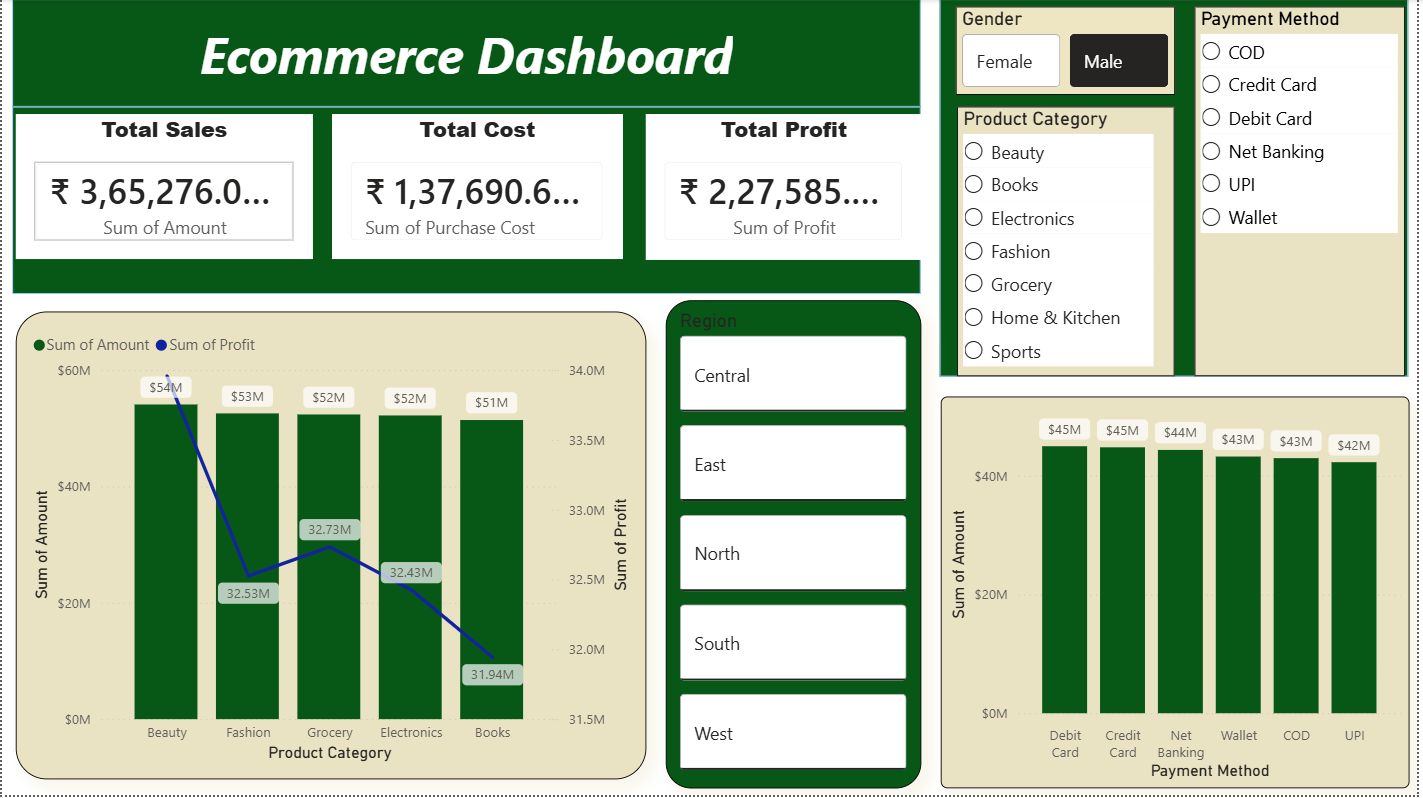

The dashboard page shown, as its layout file describes it:
{"tool":"powerbi","page":{"name":"Page 1","canvas":[1280,720],"ordinal":0},"visuals":[{"type":"shape","box":[9.3,0,822.1,97.7],"z":0},{"type":"shape","box":[9.3,97.7,822.1,169.8],"z":1000},{"type":"shape","box":[848,0,424,341.7],"z":2000},{"type":"advancedSlicerVisual","fields":{"Values":["Ecommerce Sales Data.Gender"]},"box":[862.9,7.1,198.6,80],"z":3000},{"type":"listSlicer","fields":{"Values":["Ecommerce Sales Data.Payment Method"]},"box":[1078.6,7.1,190,334.3],"z":4000},{"type":"listSlicer","fields":{"Values":["Ecommerce Sales Data.Product Category"]},"box":[864.3,97.1,197.1,244.3],"z":5000},{"type":"cardVisual","title":"Total Sales","fields":{"Data":["Sum(Ecommerce Sales Data.Amount)"]},"box":[12.9,104.3,268.6,131.4],"z":6000},{"type":"cardVisual","title":"Total Cost","fields":{"Data":["Sum(Ecommerce Sales Data.Purchase Cost)"]},"box":[298.6,104.3,262.9,131.4],"z":7000},{"type":"cardVisual","title":"Total Profit","fields":{"Data":["Sum(Ecommerce Sales Data.Profit)"]},"box":[581.8,104.3,249.7,131.7],"z":8000},{"type":"lineClusteredColumnComboChart","fields":{"Category":["Ecommerce Sales Data.Product Category"],"Y":["Sum(Ecommerce Sales Data.Amount)"],"Y2":["Sum(Ecommerce Sales Data.Profit)"]},"box":[12.9,282.9,570,422.9],"z":9000},{"type":"advancedSlicerVisual","fields":{"Values":["Ecommerce Sales Data.Region"]},"box":[600,272.9,231.4,441.4],"z":10000},{"type":"lineClusteredColumnComboChart","fields":{"Category":["Ecommerce Sales Data.Payment Method"],"Y":["Sum(Ecommerce Sales Data.Amount)"]},"box":[848.6,360,424.3,354.3],"z":11000}]}

Visuals, with their boxes in screenshot pixels (x1, y1, x2, y2), scaled from the page's 1280x720 canvas onto the 1423x798 screenshot:
shape: left=10, top=0, right=924, bottom=108
shape: left=10, top=108, right=924, bottom=296
shape: left=943, top=0, right=1414, bottom=379
advancedSlicerVisual - Ecommerce Sales Data.Gender: left=959, top=8, right=1180, bottom=97
listSlicer - Ecommerce Sales Data.Payment Method: left=1199, top=8, right=1410, bottom=378
listSlicer - Ecommerce Sales Data.Product Category: left=961, top=108, right=1180, bottom=378
"Total Sales" cardVisual: left=14, top=116, right=313, bottom=261
"Total Cost" cardVisual: left=332, top=116, right=624, bottom=261
"Total Profit" cardVisual: left=647, top=116, right=924, bottom=262
lineClusteredColumnComboChart - Ecommerce Sales Data.Product Category x Sum(Ecommerce Sales Data.Amount): left=14, top=314, right=648, bottom=782
advancedSlicerVisual - Ecommerce Sales Data.Region: left=667, top=302, right=924, bottom=792
lineClusteredColumnComboChart - Ecommerce Sales Data.Payment Method x Sum(Ecommerce Sales Data.Amount): left=943, top=399, right=1415, bottom=792
